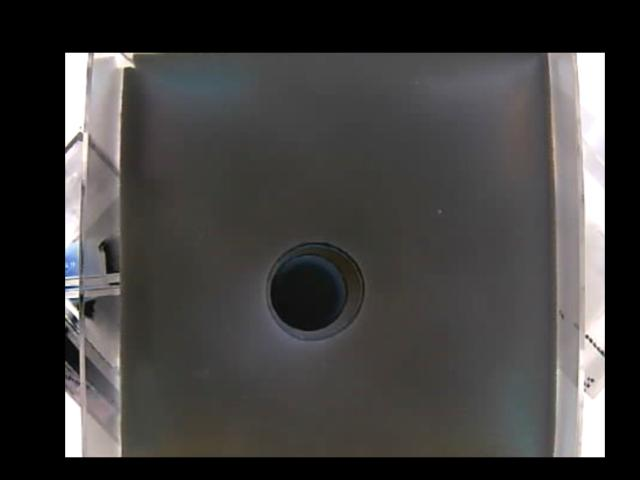Cup: (263, 238, 367, 342)
